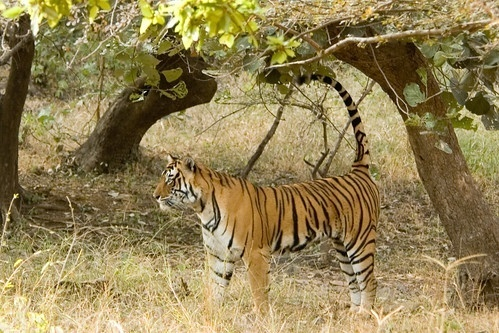tigre: (152, 149, 381, 325)
